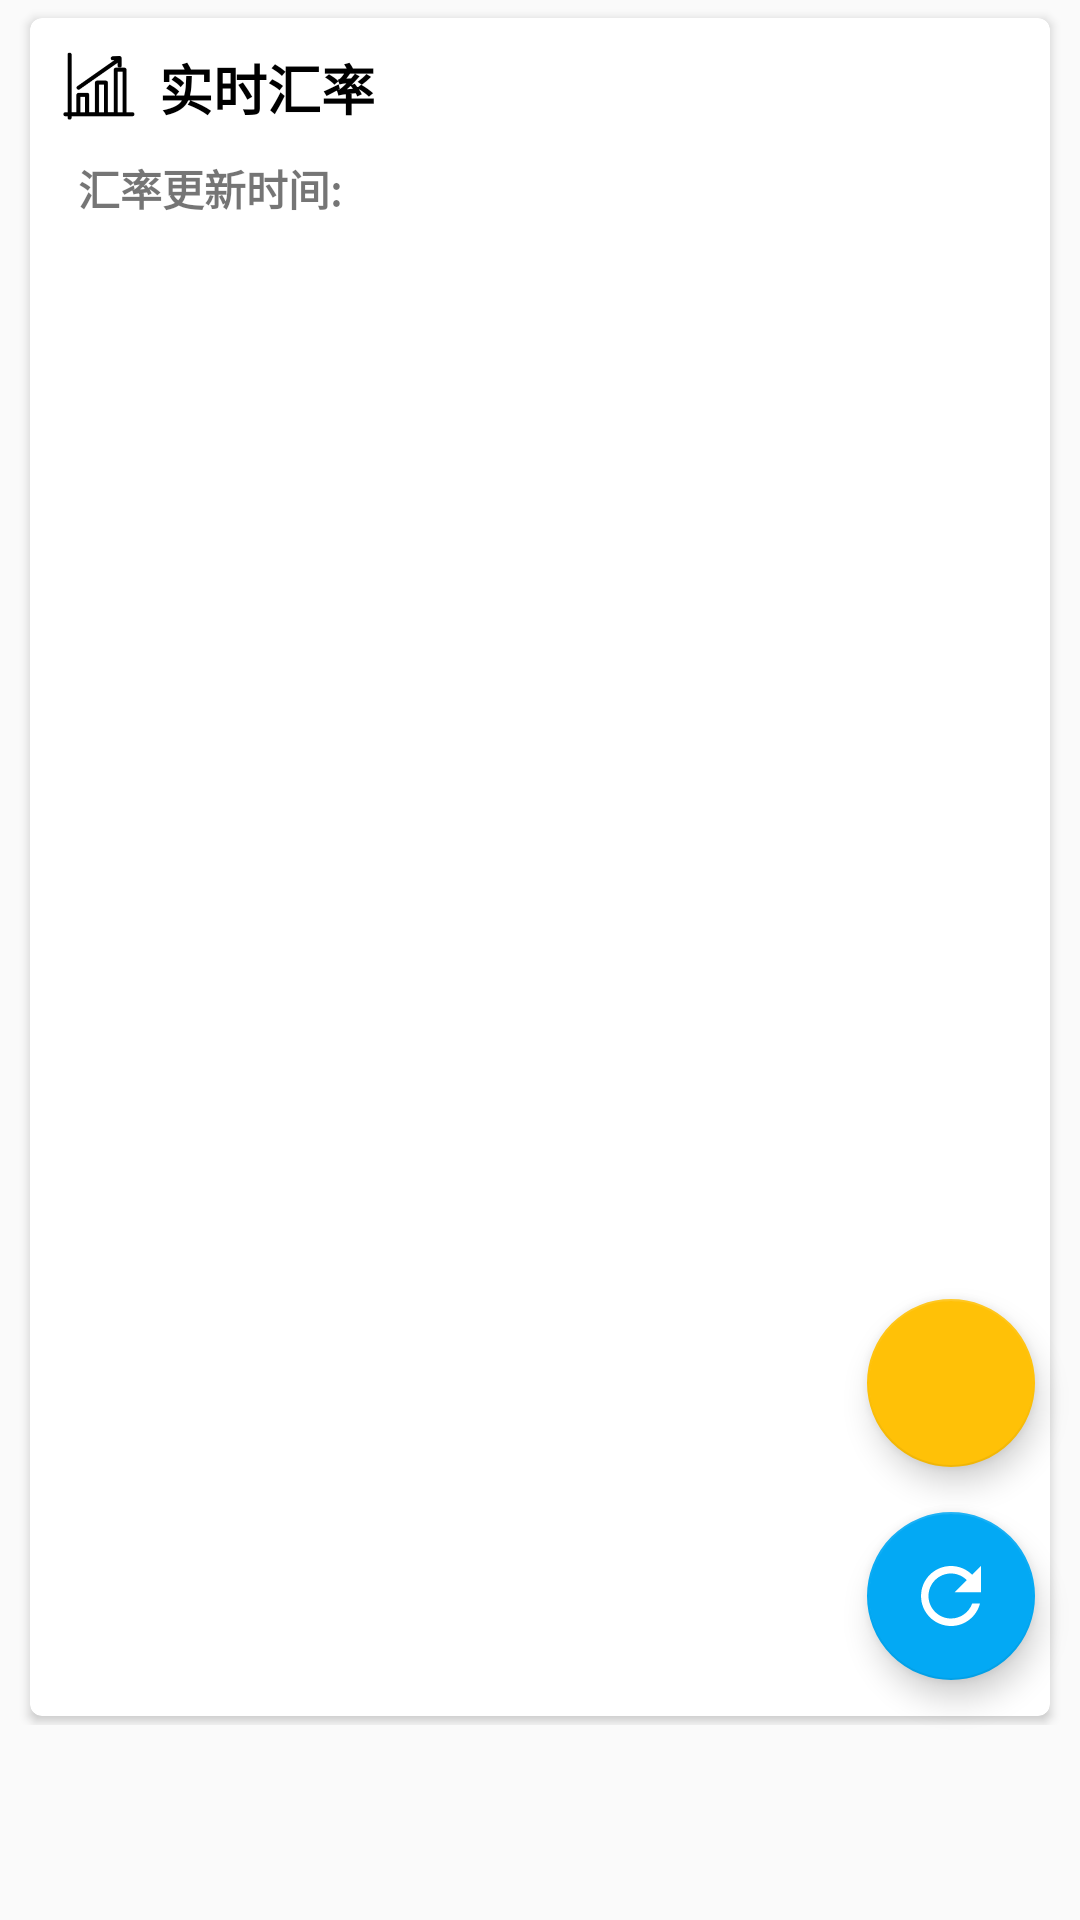

Screen size 1080w x 1920h. Icon name, then its box in pixels as (x1, y1, x2, y2):
rate: (63, 52, 135, 120)
refresh: (867, 1512, 1035, 1680)
